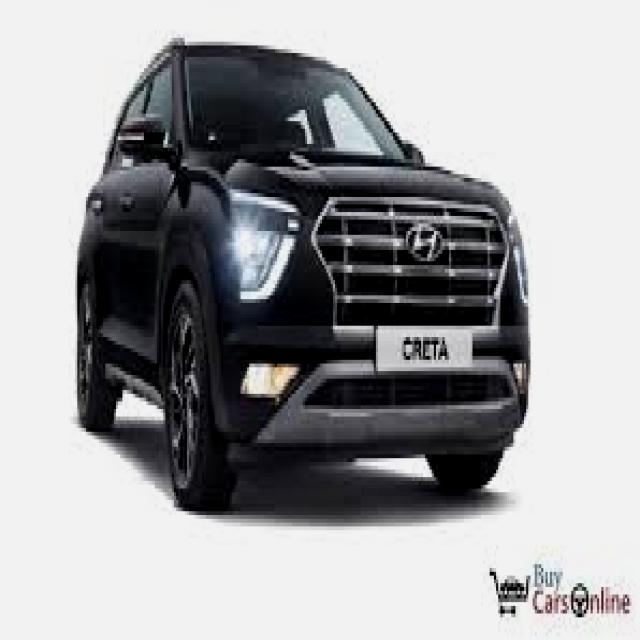SUV: (76, 31, 538, 504)
